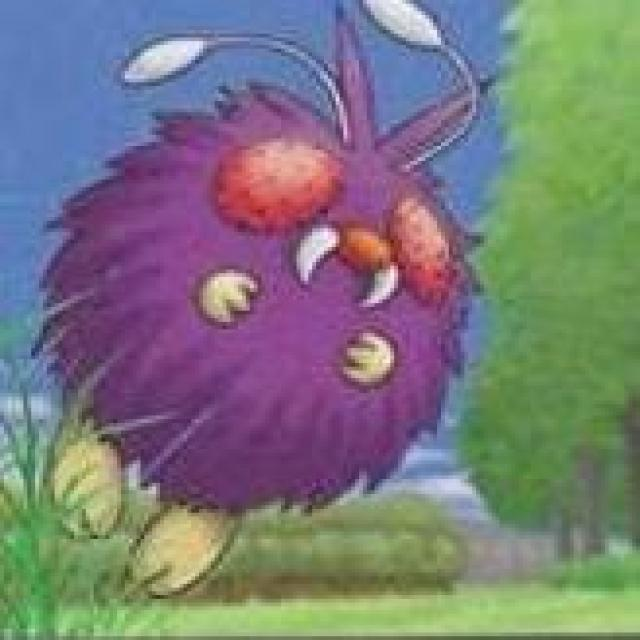Venonat: (36, 20, 492, 558)
